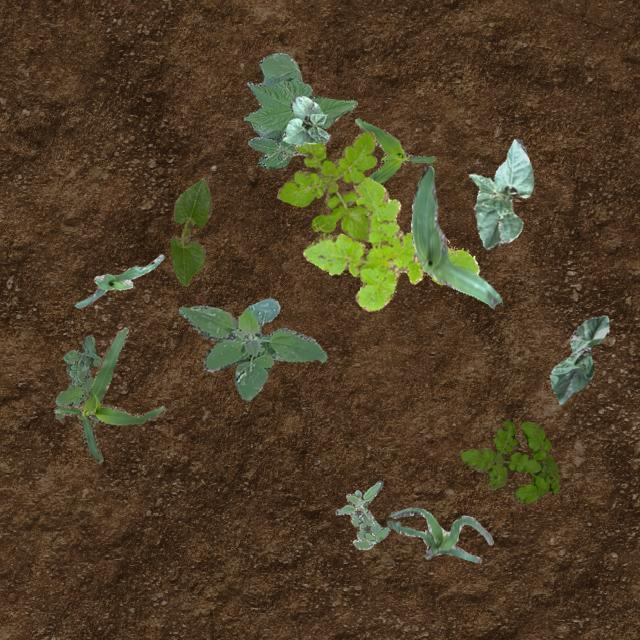crop: (52, 326, 166, 462), (242, 51, 356, 168), (410, 165, 500, 308), (468, 138, 532, 248), (386, 506, 492, 562), (548, 314, 608, 404), (354, 118, 434, 182), (74, 254, 162, 308), (170, 178, 212, 286), (280, 94, 328, 144)
weed: (302, 176, 478, 310), (178, 298, 326, 400), (276, 130, 376, 242), (460, 418, 558, 502), (54, 334, 100, 422), (334, 479, 388, 548)
